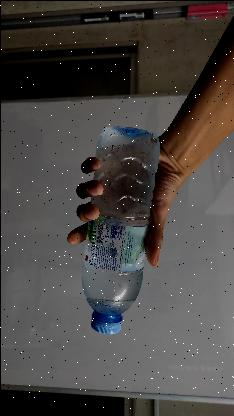Plastic Bottle: (76, 122, 162, 336)
